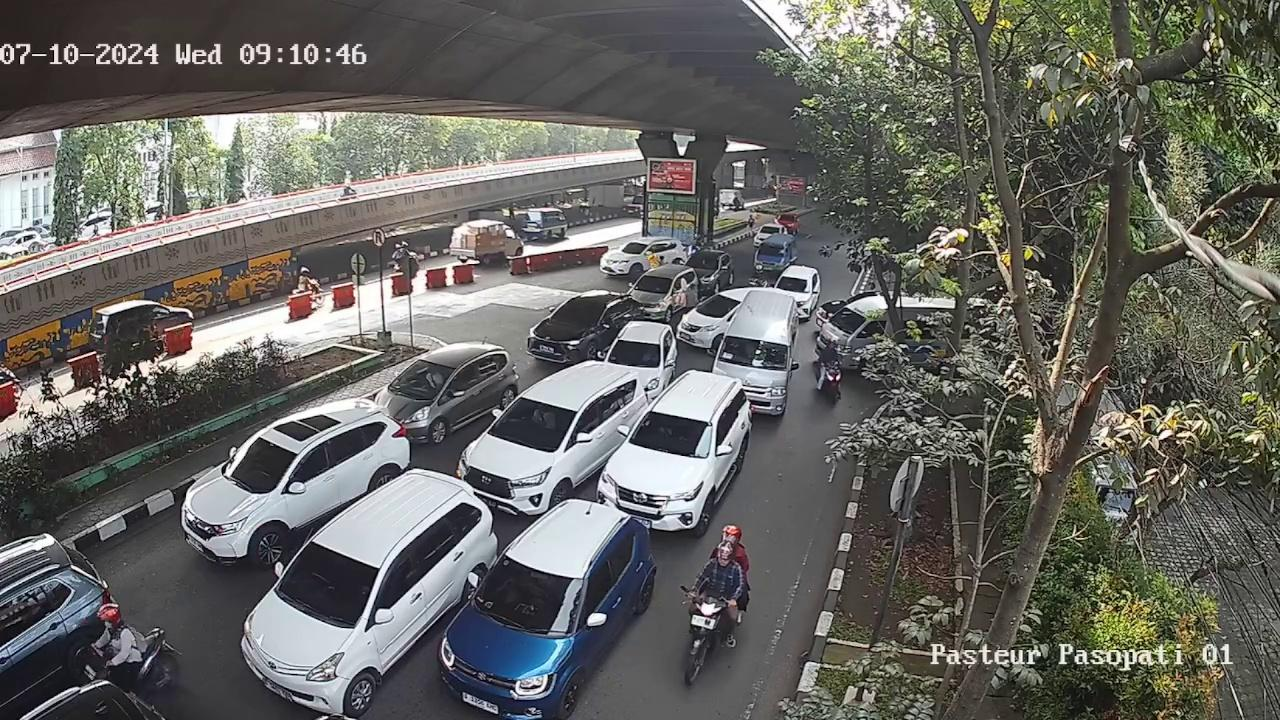pakai: (532, 405, 555, 432), (422, 367, 444, 390)
tidak-pakai: (642, 346, 658, 363)
windshield: (466, 552, 589, 631), (275, 542, 377, 629), (486, 396, 578, 456), (632, 410, 715, 462), (226, 436, 293, 494), (383, 359, 458, 400), (719, 330, 790, 373), (607, 340, 665, 368), (552, 296, 606, 325), (635, 273, 673, 292)
